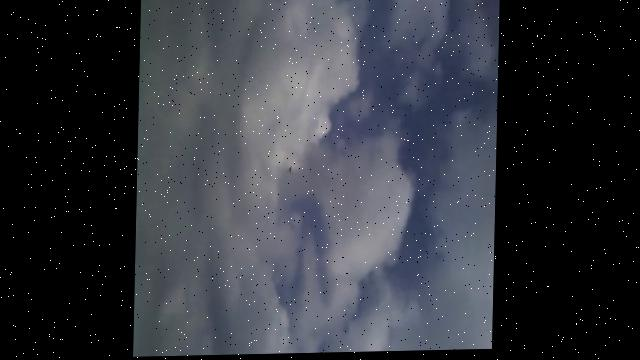drone: (285, 164, 297, 177)
